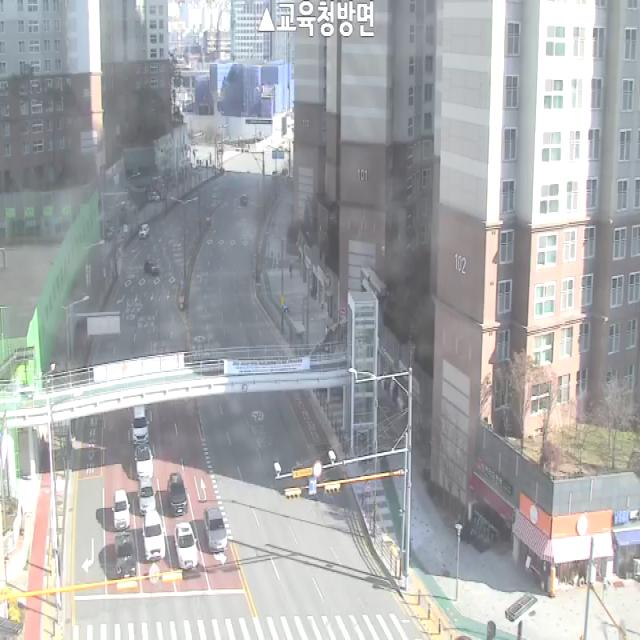Car: (142, 512, 166, 560), (175, 522, 198, 570), (204, 507, 228, 552), (116, 531, 136, 578), (167, 474, 187, 516), (112, 490, 130, 530), (138, 477, 156, 515), (132, 405, 149, 444), (135, 444, 153, 479), (144, 261, 160, 275), (139, 224, 150, 238), (239, 194, 249, 207)
